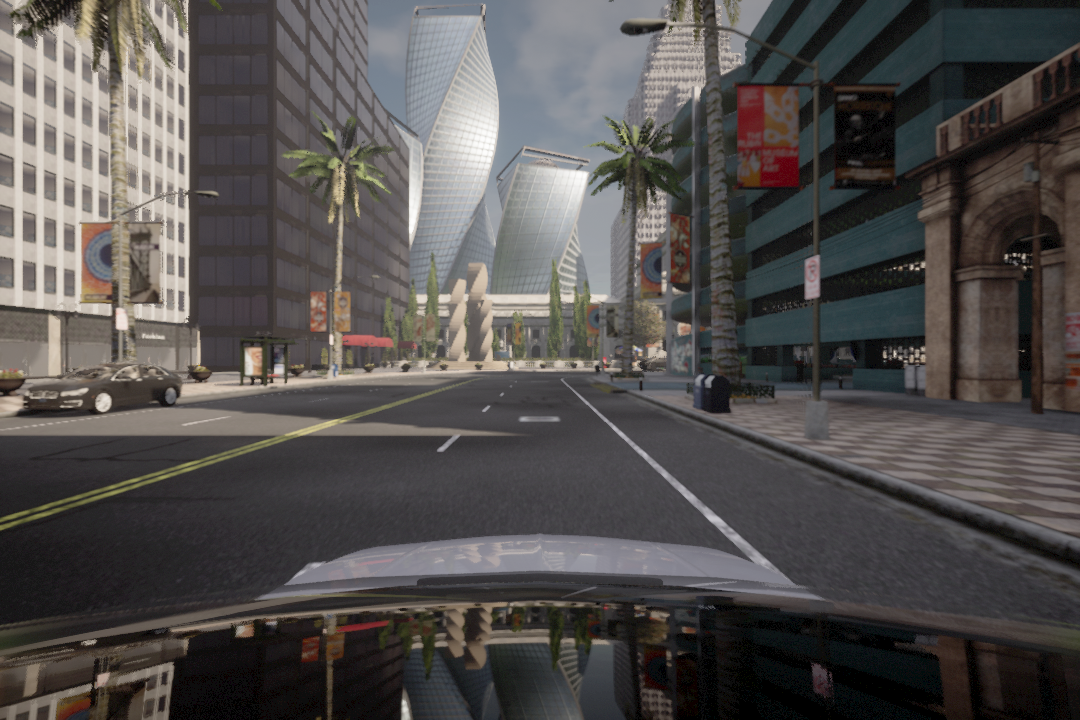TrafficSign_nstop: (802, 253, 822, 300)
